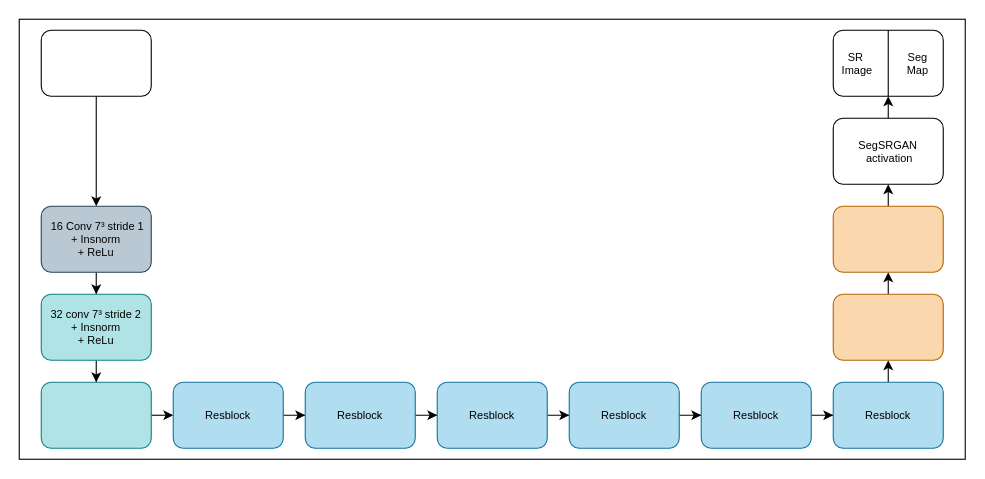
The diagram is 985 pixels wide and 479 high, and some of its shapes have lost their labels. Here are the shapes that lost their labels. From the top down, the box of each, then its label:
(40, 29, 151, 96): Interpolated image
(832, 205, 943, 272): UpSampling 3D X2 16 Conv 7³ stride 1 + Insnorm + ReLu
(832, 293, 943, 360): UpSampling 3D X2 32 conv 7³ stride 1 + Insnorm + ReLu
(40, 381, 151, 448): 64 conv 7³ stride 2 + Insnorm + ReLu
